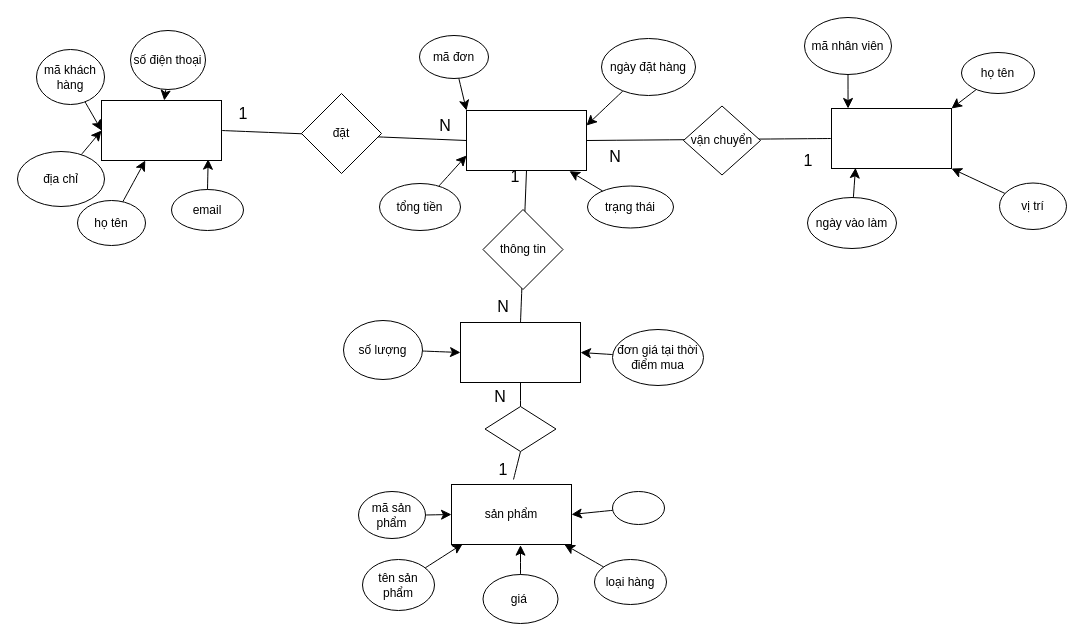
Some shapes in this 1084 by 641 pixel diagram are drawn without their labels. The box of each missing label's shape, as (x1, y1, x2, y2) in pixels:
chi tiết đơn hàng: (460, 322, 580, 382)
gồm: (484, 406, 556, 452)
khách hàng: (100, 100, 222, 160)
mô tả: (612, 490, 664, 524)
nhân viên: (830, 108, 952, 168)
đơn hàng: (466, 110, 586, 170)
